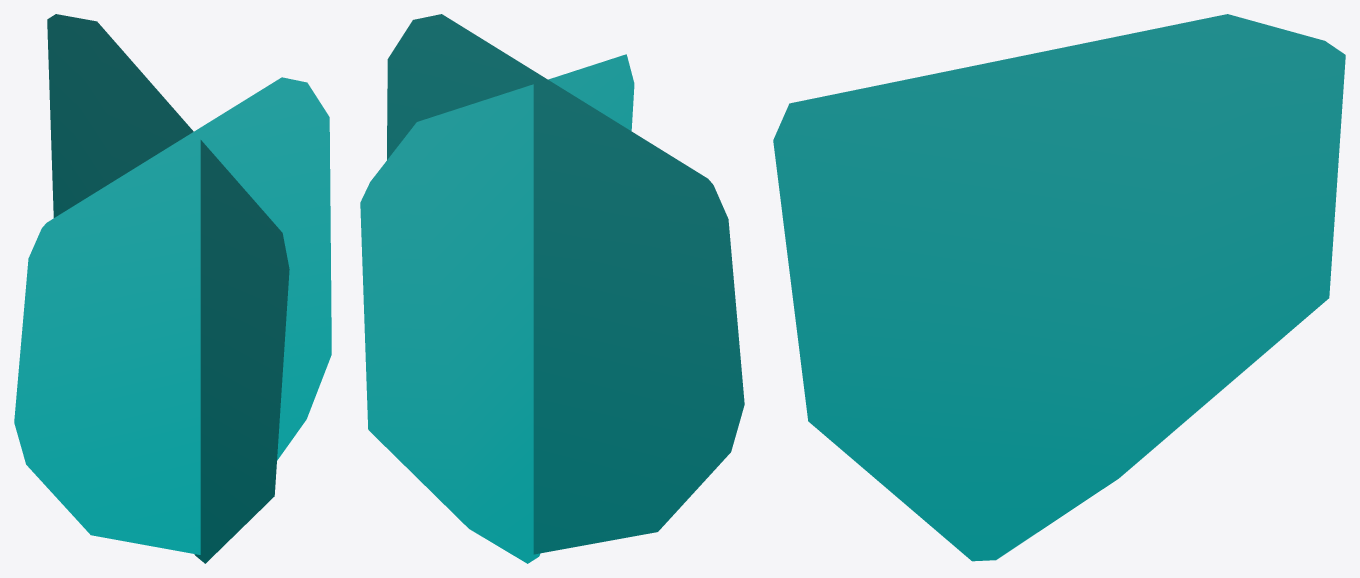
Rendered from European_Spindle_wk1ncbxja_Mid_wk1ncbxja_VarI_LOD3.fbx.
3 renders of one model, left to right at view 1: azimuth 30°, elevation 25°; view 2: azimuth 150°, elevation 25°; view 3: azimuth 270°, elevation 25°, orthographic. The views are drawn at different scales.
Parts seen in each view (by area): view 1: _iucr_VarI_LOD4; view 2: _iucr_VarI_LOD4; view 3: _iucr_VarI_LOD4.
Part boxes in pixels (x1,y1,x2,y2): _iucr_VarI_LOD4: (14,14,331,563); _iucr_VarI_LOD4: (360,14,744,563); _iucr_VarI_LOD4: (773,14,1345,561).
Size of the model in its own units: 79.44 by 111 by 105.
